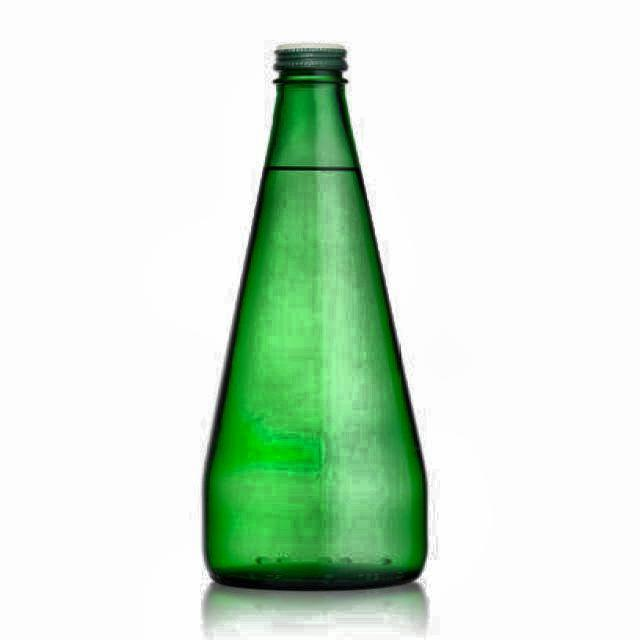glass: (202, 43, 428, 595)
